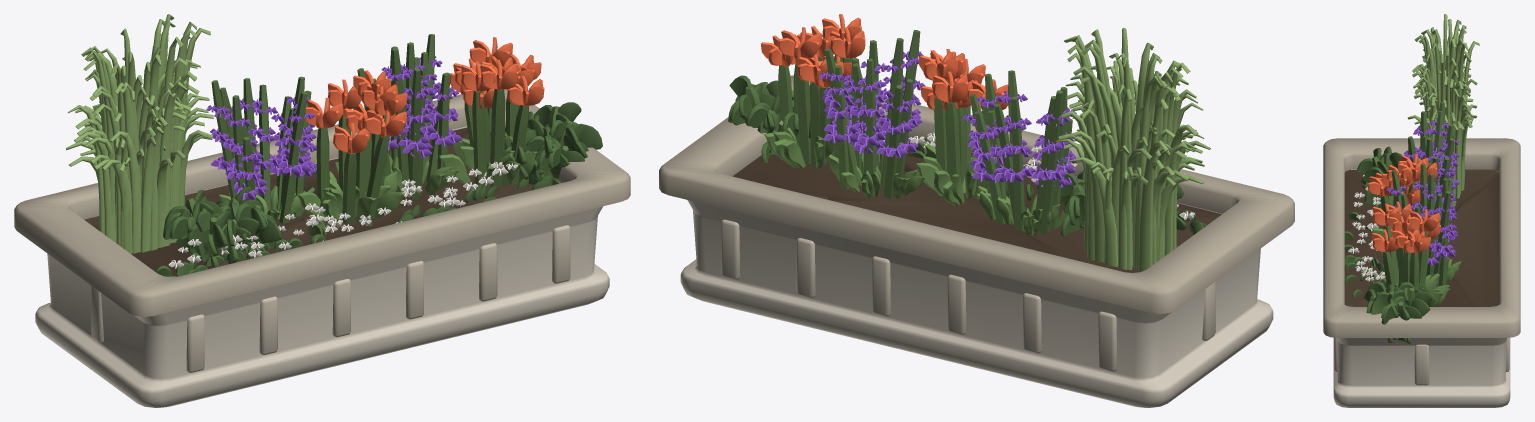
File: bac_champetre.glb
3 views of the same model, side by side, from view 1: azimuth 30°, elevation 25°; view 2: azimuth 150°, elevation 25°; view 3: azimuth 270°, elevation 25° (orthographic). The views are drawn at different scales.
Parts seen in each view (by area): view 1: MXE_Maconnerie, MXE_Couronnement, MXE_Feuille_Clair, MXE_Tige, MXE_Feuille_Fonce, MXE_Fl_Corail, MXE_Fl_Violet, MXE_Nervures, MXE_Feuille_Moyen, MXE_Terre, MXE_Fl_Blanc; view 2: MXE_Maconnerie, MXE_Couronnement, MXE_Feuille_Clair, MXE_Tige, MXE_Terre, MXE_Fl_Violet, MXE_Nervures, MXE_Fl_Corail, MXE_Feuille_Moyen, MXE_Feuille_Fonce, MXE_Fl_Blanc; view 3: MXE_Couronnement, MXE_Maconnerie, MXE_Terre, MXE_Feuille_Clair, MXE_Tige, MXE_Fl_Corail, MXE_Feuille_Fonce, MXE_Fl_Violet, MXE_Nervures, MXE_Fl_Blanc, MXE_Feuille_Moyen.
Part boxes in pixels (box(x1,y1,x2,y2)): MXE_Maconnerie: box(35, 126, 609, 407); MXE_Couronnement: box(14, 89, 630, 316); MXE_Feuille_Clair: box(66, 14, 213, 253); MXE_Tige: box(186, 34, 577, 261); MXE_Feuille_Fonce: box(156, 102, 602, 277); MXE_Fl_Corail: box(305, 37, 544, 153); MXE_Fl_Violet: box(206, 56, 462, 200); MXE_Nervures: box(91, 225, 570, 372); MXE_Feuille_Moyen: box(219, 138, 537, 226); MXE_Terre: box(84, 127, 534, 276); MXE_Fl_Blanc: box(168, 161, 518, 268); MXE_Maconnerie: box(680, 143, 1273, 407); MXE_Couronnement: box(659, 75, 1294, 313); MXE_Feuille_Clair: box(1055, 28, 1210, 271); MXE_Tige: box(745, 30, 1084, 234); MXE_Terre: box(732, 135, 1221, 272); MXE_Fl_Violet: box(819, 51, 1077, 187); MXE_Nervures: box(721, 219, 1215, 371); MXE_Fl_Corail: box(761, 14, 1008, 111); MXE_Feuille_Moyen: box(764, 120, 1068, 236); MXE_Feuille_Fonce: box(728, 75, 1206, 236); MXE_Fl_Blanc: box(851, 111, 1194, 220); MXE_Couronnement: box(1323, 138, 1520, 337); MXE_Maconnerie: box(1333, 169, 1510, 407); MXE_Terre: box(1344, 169, 1499, 306); MXE_Feuille_Clair: box(1407, 14, 1479, 198); MXE_Tige: box(1370, 102, 1454, 316); MXE_Fl_Corail: box(1367, 153, 1440, 253); MXE_Feuille_Fonce: box(1344, 146, 1435, 343); MXE_Fl_Violet: box(1386, 120, 1459, 265); MXE_Nervures: box(1334, 337, 1509, 385); MXE_Fl_Blanc: box(1348, 174, 1385, 281); MXE_Feuille_Moyen: box(1372, 200, 1461, 306).
Size of the model in its own units: 1.48 by 0.8725 by 0.66.
